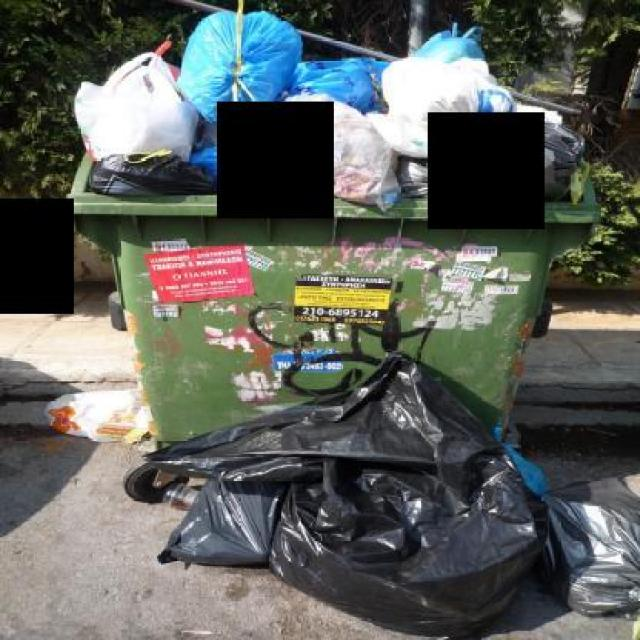plastic bag: (137, 343, 552, 637), (232, 92, 405, 214), (172, 8, 305, 130), (66, 50, 208, 158), (445, 110, 606, 204), (544, 471, 638, 623), (157, 474, 297, 568), (369, 57, 486, 146), (39, 388, 164, 449), (274, 54, 398, 111), (488, 428, 570, 495), (84, 148, 178, 197), (402, 21, 491, 70), (198, 140, 264, 194), (389, 154, 457, 201), (145, 157, 217, 191), (471, 90, 517, 132), (194, 114, 240, 151), (474, 71, 511, 92)
